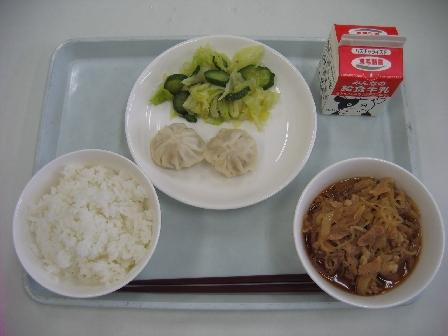Meat: (297, 168, 433, 297)
Milk: (308, 21, 408, 119)
Rice: (13, 162, 162, 303)
manty: (153, 125, 262, 180)
salad with sauce: (153, 51, 284, 126)
